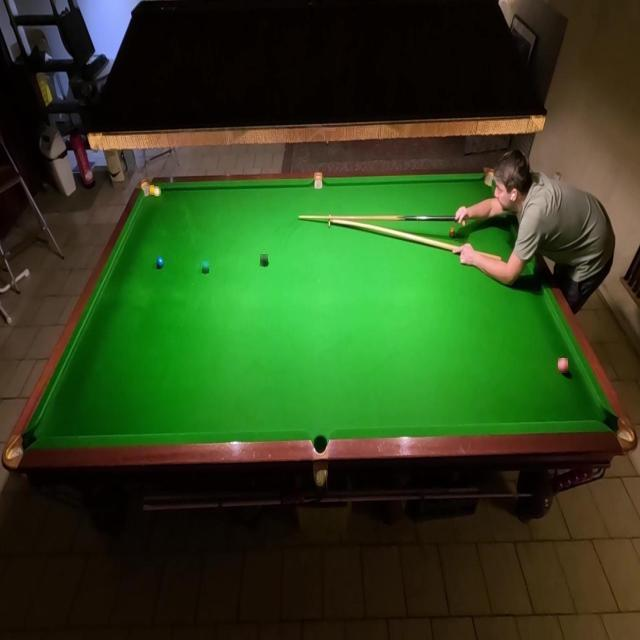Ball: (558, 358, 568, 373), (260, 254, 268, 266), (156, 256, 164, 268), (448, 226, 456, 238), (202, 261, 209, 273), (154, 186, 161, 196), (150, 185, 154, 195)
